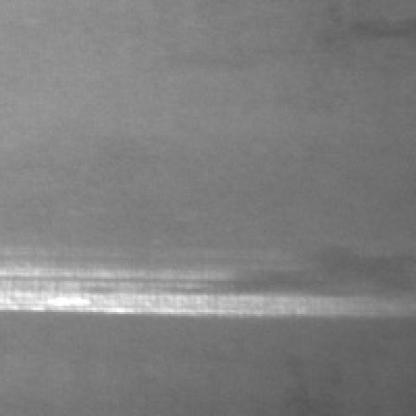scratches: (0, 246, 366, 314)
